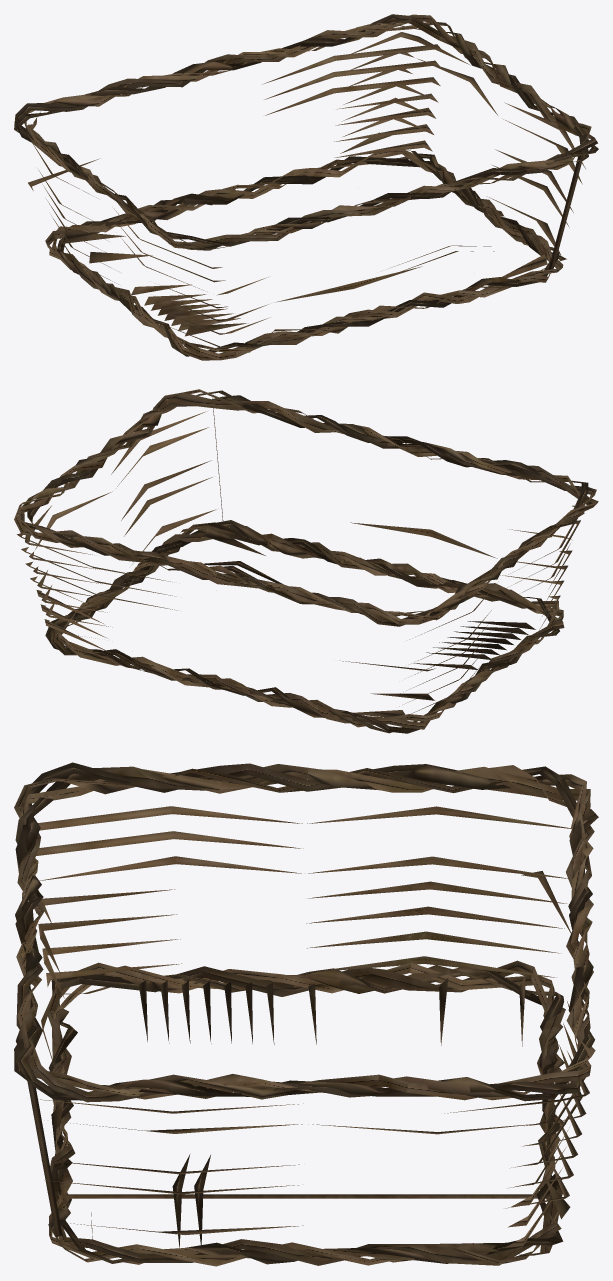
Rendered from basket.glb.
3 views of the same model, one above another, from view 1: azimuth 30°, elevation 25°; view 2: azimuth 150°, elevation 25°; view 3: azimuth 270°, elevation 25° (orthographic). The views are drawn at different scales.
Parts seen in each view (by area): view 1: wicker_basket_01; view 2: wicker_basket_01; view 3: wicker_basket_01.
Boxes of the visible parts, x1,y1,x2,y2 form: wicker_basket_01: (14,14,598,360); wicker_basket_01: (14,389,598,733); wicker_basket_01: (14,762,598,1266).
Size of the model in its own units: 0.383 by 0.1174 by 0.2929.
1 material, 1 textured.
